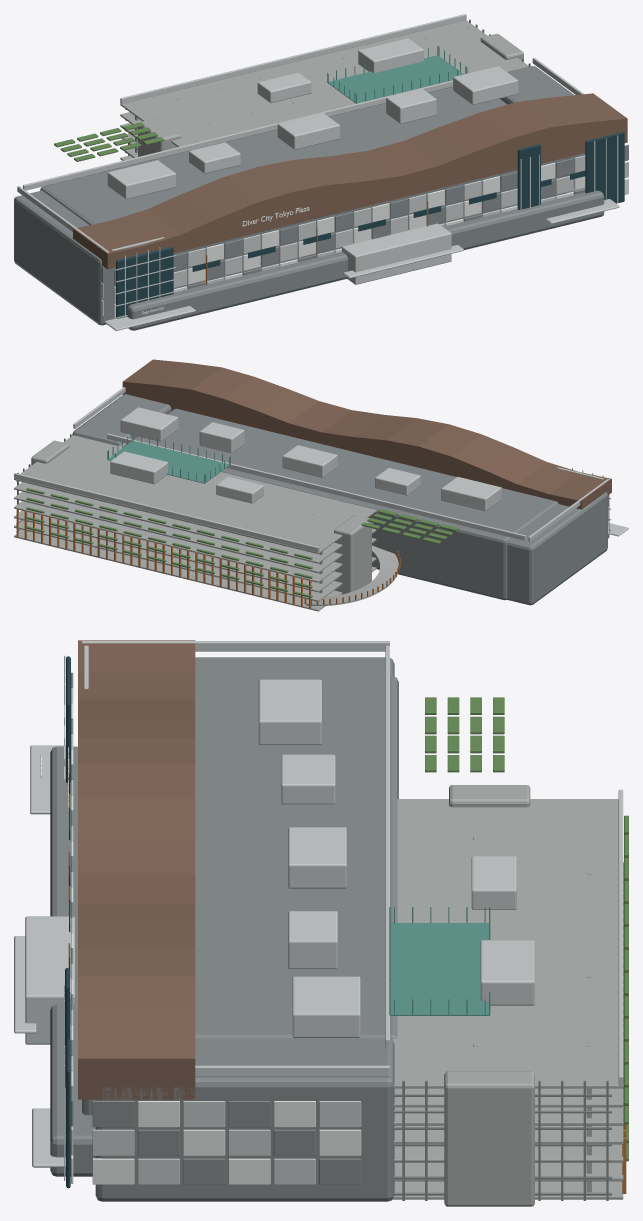
File: divercity-tokyo-plaza.glb
3 views of the same model, one above another, from view 1: azimuth 30°, elevation 25°; view 2: azimuth 150°, elevation 25°; view 3: azimuth 270°, elevation 25° (orthographic). The views are drawn at different scales.
Parts seen in each view (by area): view 1: Mall_Main_Mass, Mall_Curved_Brown_Band, Parking_Main_Structure_Decks, Roof_Service_Volumes, Mall_Glazed_Corners, Roof_Parapets, Mall_Entrances, Mall_Panel_Facades_02, Mall_Panel_Facades_03, Mall_Panel_Facades_01, Roof_Sports_Area, Roof_Garden_Area (+3 smaller); view 2: Mall_Main_Mass, Parking_Main_Structure_Decks, Mall_Curved_Brown_Band, Roof_Service_Volumes, Roof_Parapets, Parking_Facade_Screens_Planted, Parking_Main_Structure_Cores, Parking_Facade_Screens_Lower, Roof_Sports_Area, Parking_Curved_Ramp, Roof_Garden_Area; view 3: Mall_Main_Mass, Parking_Main_Structure_Decks, Mall_Curved_Brown_Band, Roof_Service_Volumes, Mall_Panel_Facades_East, Parking_Main_Structure_Cores, Roof_Sports_Area, Mall_Entrances, Roof_Parapets, Parking_Facade_Screens_EndBay, Roof_Garden_Area, Mall_Glazed_Corners (+1 smaller).
Part boxes in pixels (box(x1,y1,x2,y2)): Mall_Main_Mass: box(14, 66, 604, 330); Mall_Curved_Brown_Band: box(73, 93, 627, 269); Parking_Main_Structure_Decks: box(120, 20, 528, 160); Roof_Service_Volumes: box(107, 38, 518, 199); Mall_Glazed_Corners: box(116, 132, 624, 318); Roof_Parapets: box(17, 14, 584, 252); Mall_Entrances: box(104, 199, 619, 330); Mall_Panel_Facades_02: box(114, 155, 628, 302); Mall_Panel_Facades_03: box(114, 144, 628, 288); Mall_Panel_Facades_01: box(114, 162, 628, 318); Roof_Sports_Area: box(327, 45, 467, 103); Roof_Garden_Area: box(54, 122, 164, 161); Mall_Main_Mass: box(72, 394, 607, 605); Parking_Main_Structure_Decks: box(14, 435, 376, 611); Mall_Curved_Brown_Band: box(122, 359, 611, 509); Roof_Service_Volumes: box(110, 407, 501, 511); Roof_Parapets: box(14, 387, 609, 552); Parking_Facade_Screens_Planted: box(26, 488, 312, 597); Parking_Main_Structure_Cores: box(31, 440, 371, 594); Parking_Facade_Screens_Lower: box(16, 508, 311, 608); Roof_Sports_Area: box(107, 432, 230, 483); Parking_Curved_Ramp: box(306, 545, 398, 605); Roof_Garden_Area: box(361, 509, 458, 544); Mall_Main_Mass: box(50, 657, 398, 1201); Parking_Main_Structure_Decks: box(392, 799, 623, 1199); Mall_Curved_Brown_Band: box(78, 640, 195, 1099); Roof_Service_Volumes: box(258, 679, 534, 1037); Mall_Panel_Facades_East: box(92, 1100, 361, 1184); Parking_Main_Structure_Cores: box(444, 785, 534, 1206); Roof_Sports_Area: box(389, 907, 490, 1015); Mall_Entrances: box(14, 745, 74, 1167); Roof_Parapets: box(82, 641, 623, 1085); Parking_Facade_Screens_EndBay: box(393, 1080, 611, 1200); Roof_Garden_Area: box(425, 697, 504, 772); Mall_Glazed_Corners: box(65, 656, 70, 1188).
Size of the model in its own units: 230 by 39.7 by 136.
